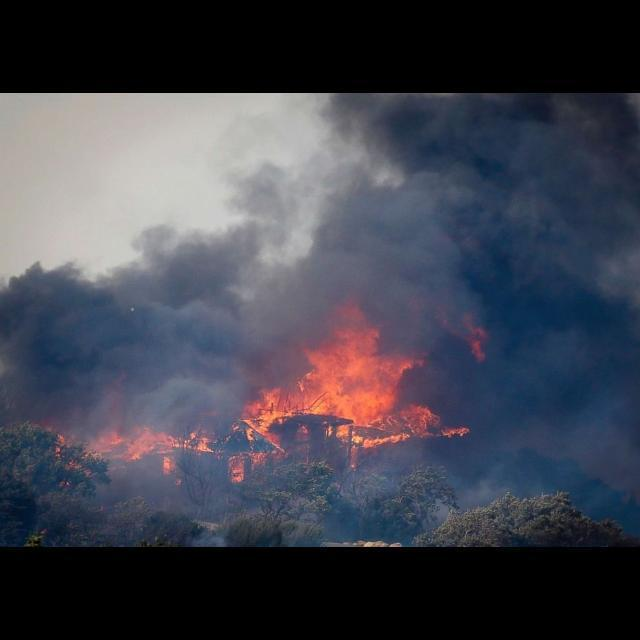Fire: (48, 300, 490, 488)
Smoke: (1, 94, 640, 296), (491, 305, 638, 515), (4, 295, 92, 422)
